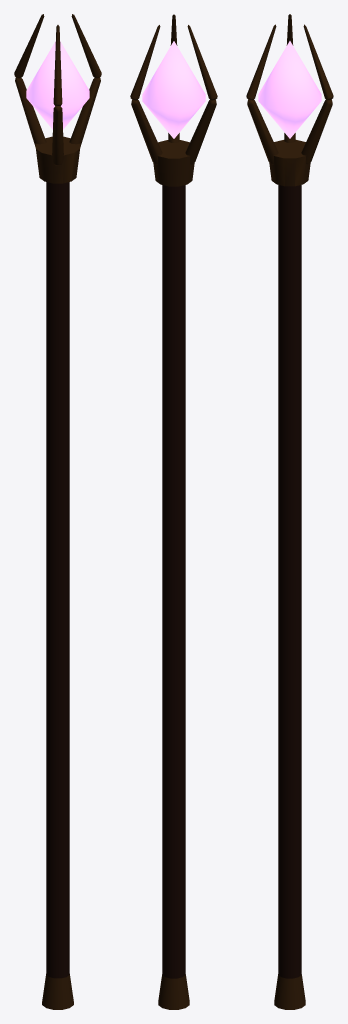
The model's file is Arma_CajadoAprendiz.fbx.
3 renders of one model, left to right at view 1: azimuth 30°, elevation 25°; view 2: azimuth 210°, elevation 25°; view 3: azimuth 330°, elevation 25°, orthographic.
Parts seen in each view (by area): view 1: Piece; view 2: Piece; view 3: Piece.
Part boxes in pixels (bbox=[...]): Piece: bbox=[14, 14, 101, 1009]; Piece: bbox=[130, 14, 217, 1009]; Piece: bbox=[246, 14, 333, 1009].
Size of the model in its own units: 0.1486 by 1.99 by 0.1603.
